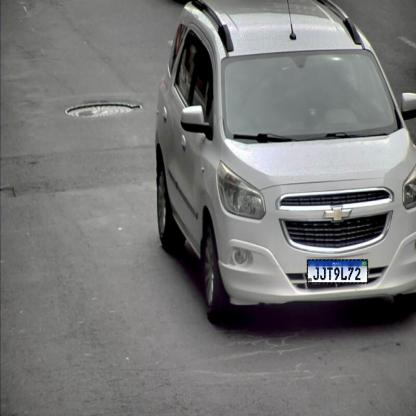PlacaM: (307, 259, 368, 284)
